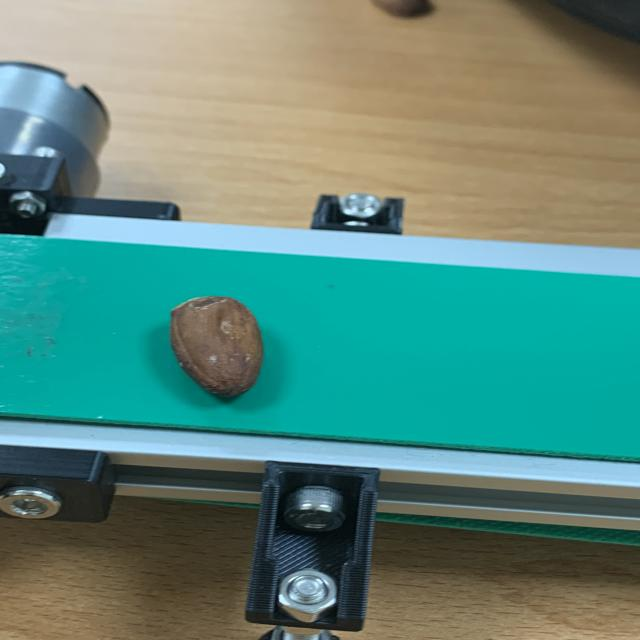Fine_cocoabeans: (75, 265, 349, 464)
